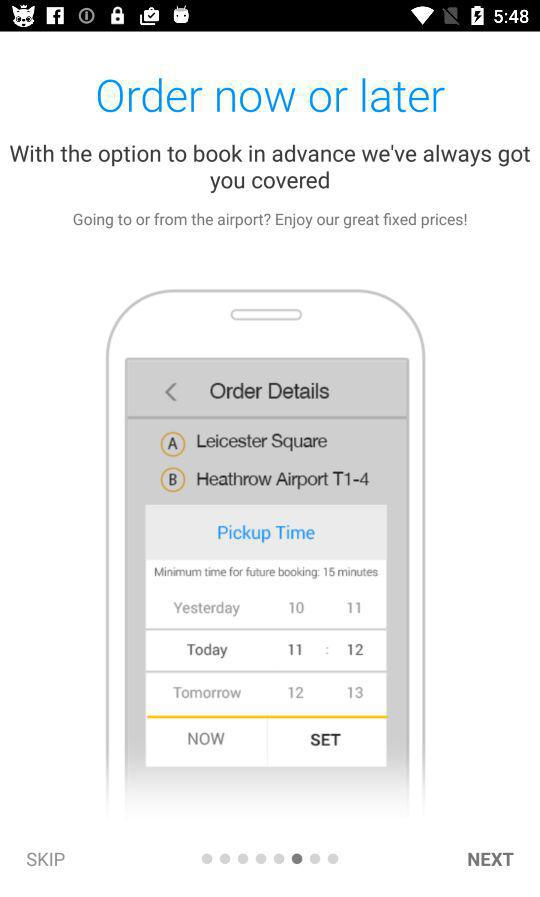Image: (106, 289, 426, 810)
PageIndicator: (202, 852, 340, 865)
Text: (10, 144, 531, 195), (98, 78, 446, 115), (74, 211, 467, 230), (467, 852, 515, 867), (27, 852, 66, 867)
UpperTaskBar: (1, 1, 540, 33)
